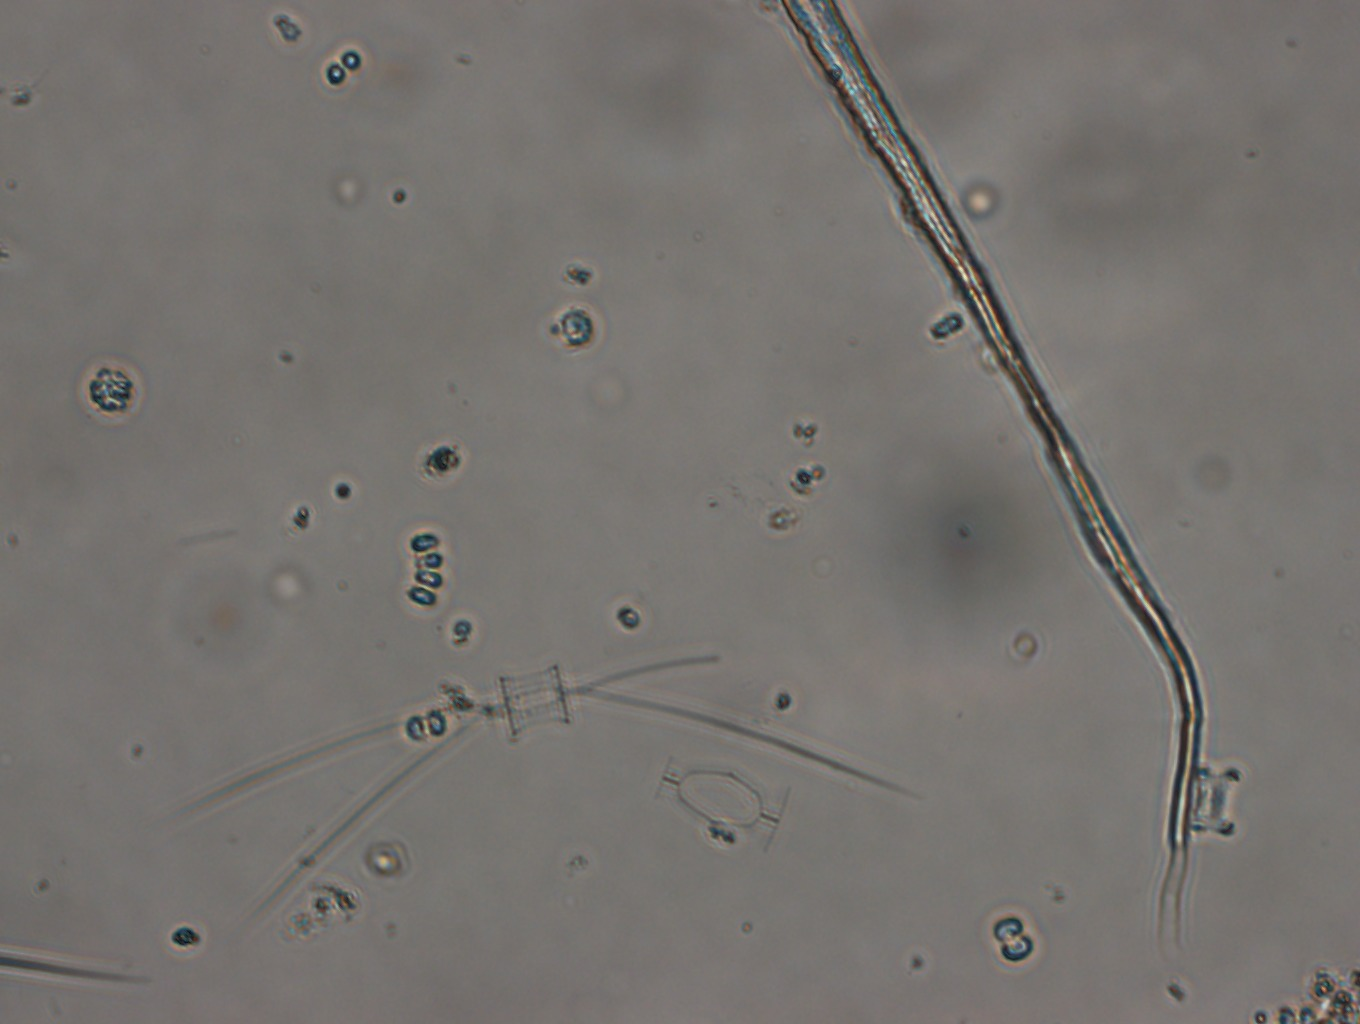chaetoceros: (207, 655, 920, 909)
